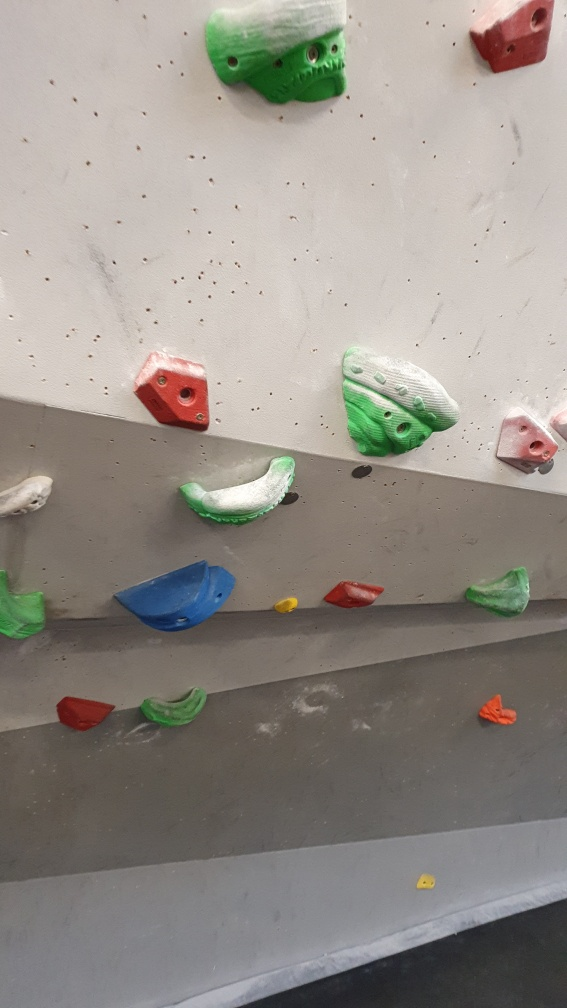Crimp: (133, 343, 218, 435), (460, 1, 556, 77), (494, 405, 559, 476), (321, 574, 386, 615)
Hand Start: (276, 488, 305, 520), (346, 460, 376, 485), (534, 451, 558, 480)
Jug: (195, 1, 361, 113), (340, 339, 465, 467), (173, 455, 304, 529), (458, 560, 535, 621), (138, 680, 214, 734), (1, 570, 54, 641), (1, 476, 61, 524)
Pinch: (109, 559, 242, 635)
